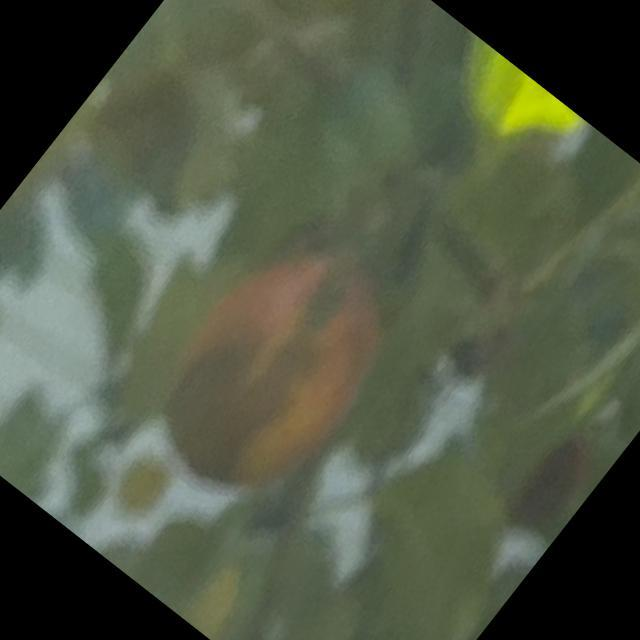100-_ripeness: (131, 217, 417, 520)
